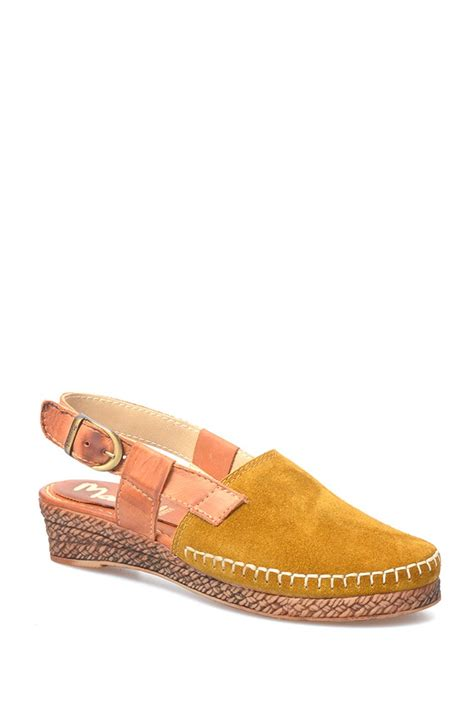gamuza: (171, 448, 443, 599)
